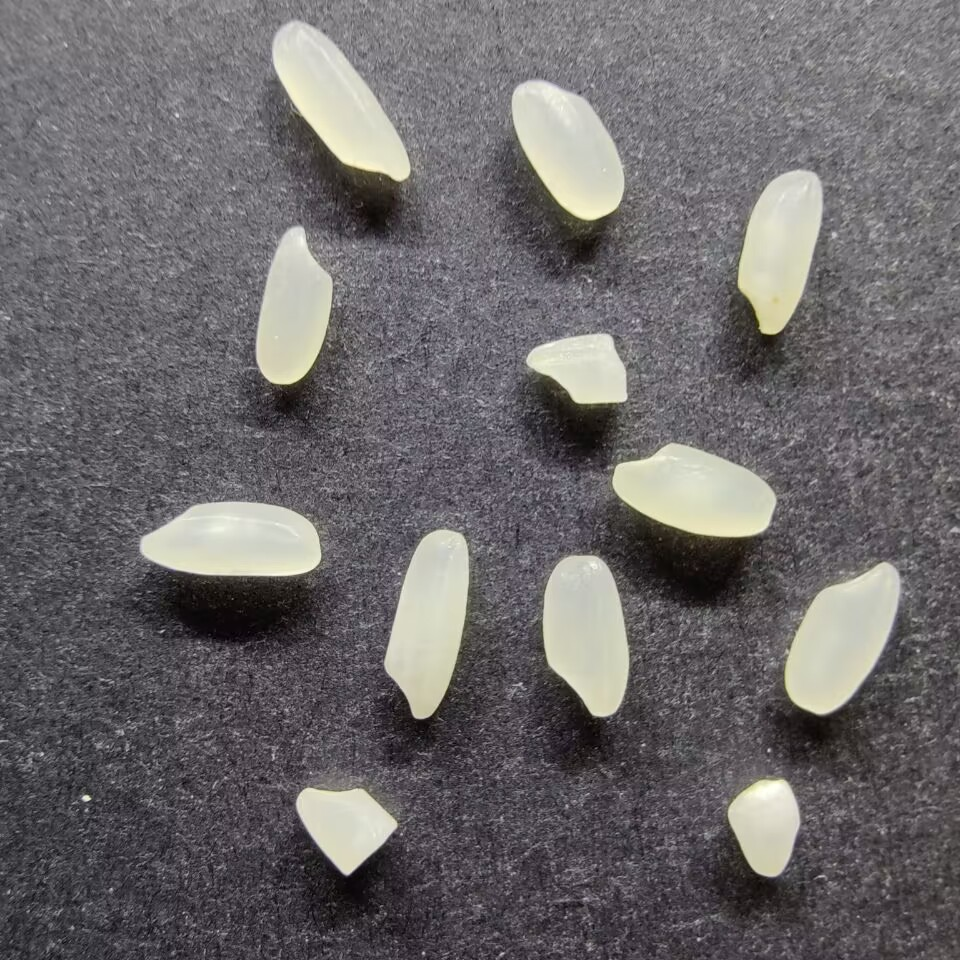broken: (294, 784, 400, 878), (725, 776, 803, 880), (523, 332, 629, 405)
rice: (269, 18, 412, 184), (782, 557, 902, 716), (379, 527, 473, 721), (609, 440, 776, 541), (508, 78, 625, 219), (539, 553, 631, 719), (734, 170, 826, 336), (137, 499, 321, 578), (252, 223, 334, 385)
